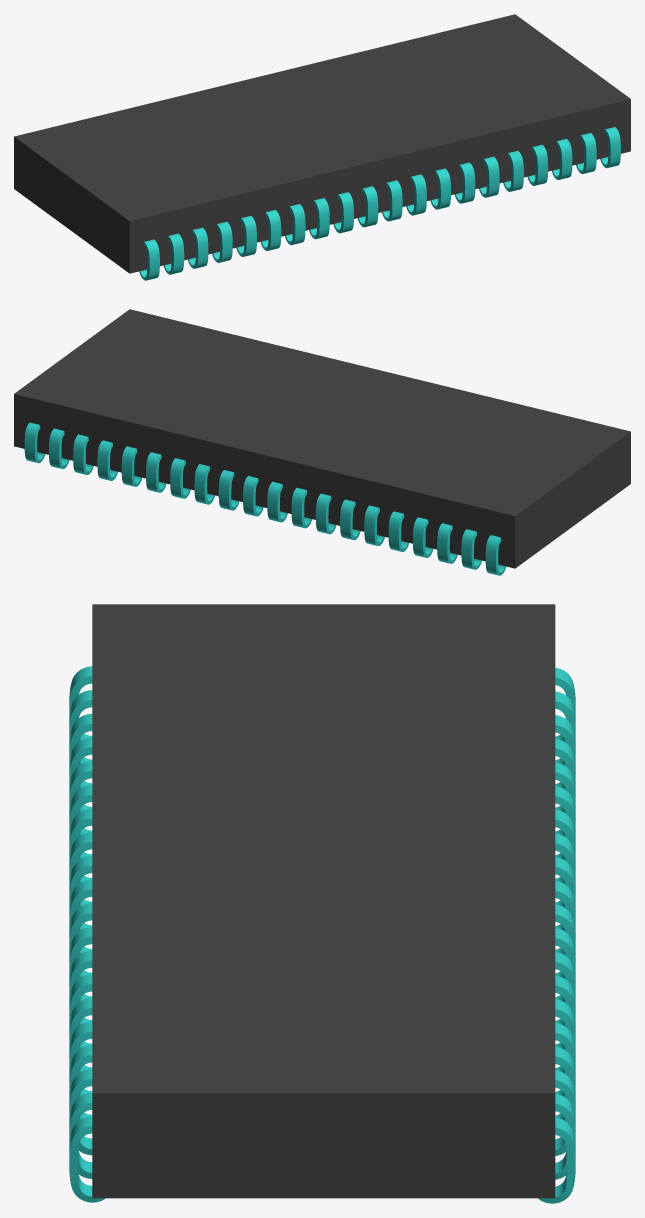
The model's file is memory chip.fbx.
3 renders of one model, top to bottom at view 1: azimuth 30°, elevation 25°; view 2: azimuth 150°, elevation 25°; view 3: azimuth 270°, elevation 25°, orthographic. The views are drawn at different scales.
Visible parts, largest first — view 1: Memory Chip, Metal Contact.001; view 2: Memory Chip, Metal Contact; view 3: Memory Chip, Metal Contact.001, Metal Contact.
Part boxes in pixels (bbox=[...]): Memory Chip: bbox=[14, 14, 630, 273]; Metal Contact.001: bbox=[139, 127, 620, 280]; Memory Chip: bbox=[14, 309, 630, 568]; Metal Contact: bbox=[24, 422, 506, 575]; Memory Chip: bbox=[92, 604, 555, 1198]; Metal Contact.001: bbox=[69, 666, 105, 1202]; Metal Contact: bbox=[538, 667, 575, 1203].
Bounding box in the file's own units: 2.5 × 0.2993 × 1.09.
